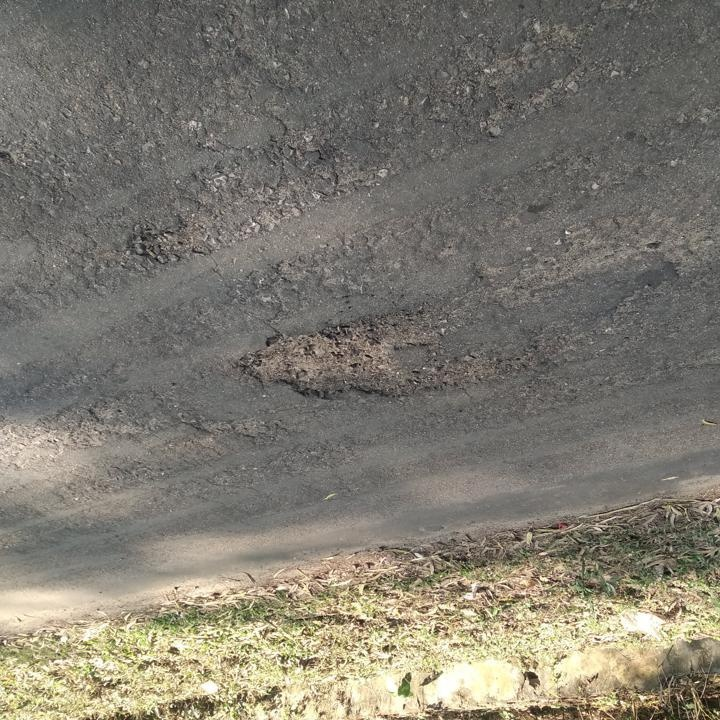pothole: (232, 308, 528, 406), (124, 212, 212, 267)
